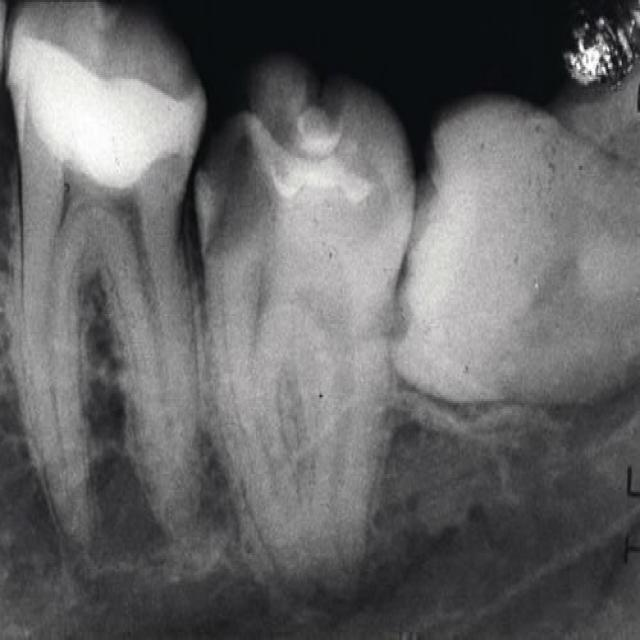Caries: (198, 60, 416, 578)
